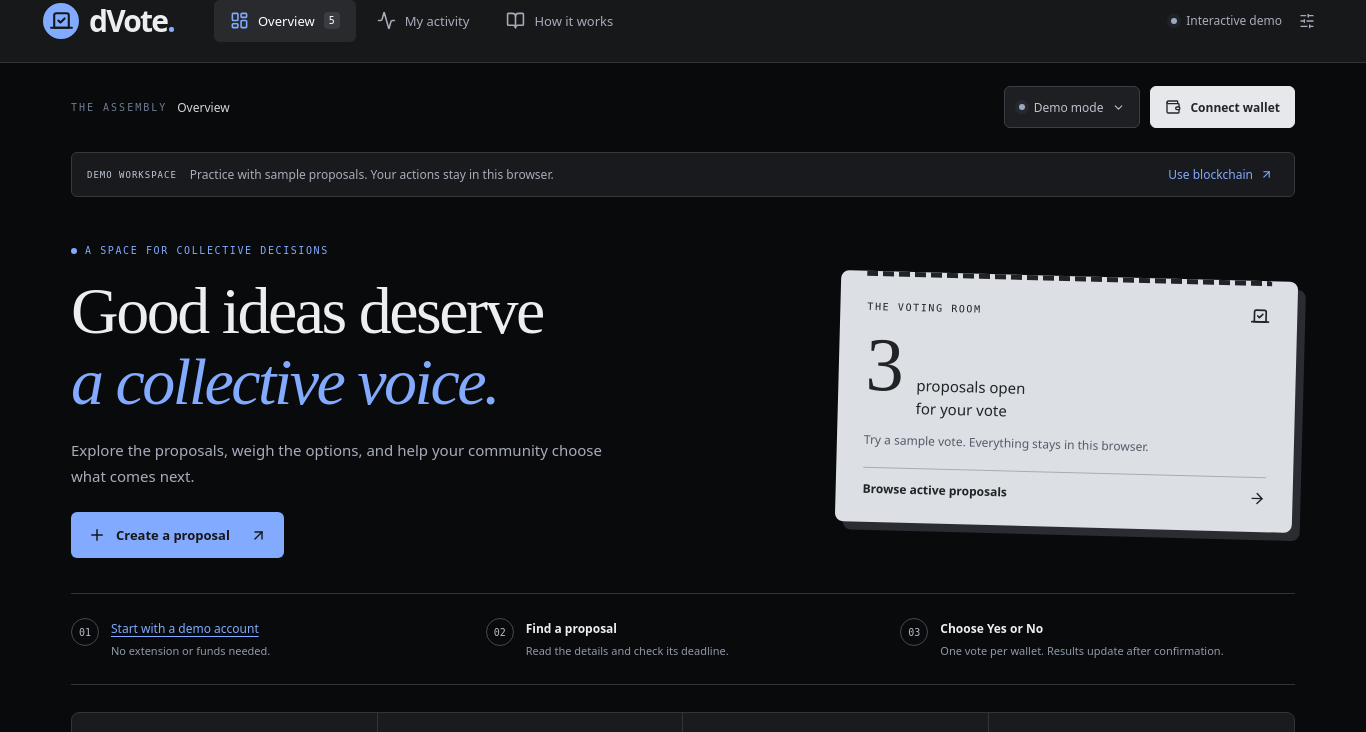
Test: dVote user flows › retains the vote form after a rejected transaction
Click the button "Use blockchain": (1221, 174) [1162,165,1279,184]
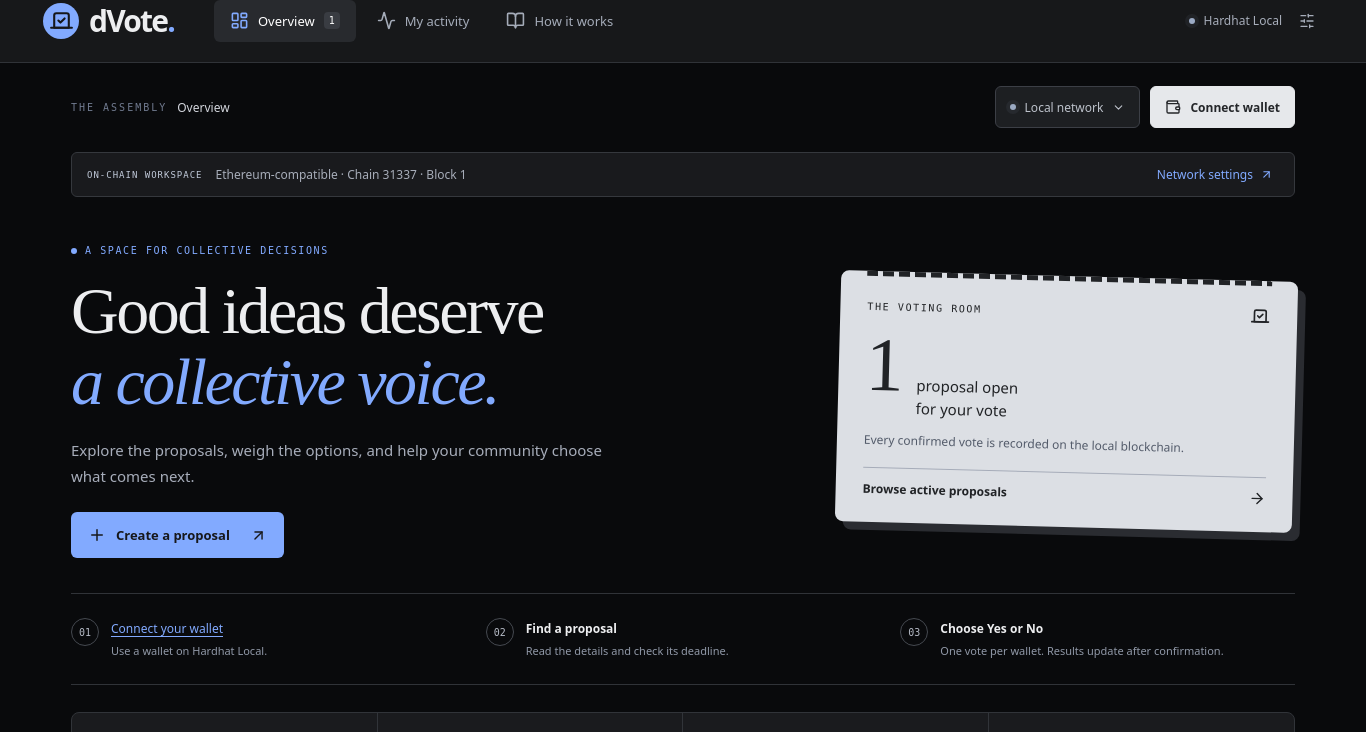
Click the button "Connect wallet": (1223, 107) [1150,86,1295,128]
(page scrolled)
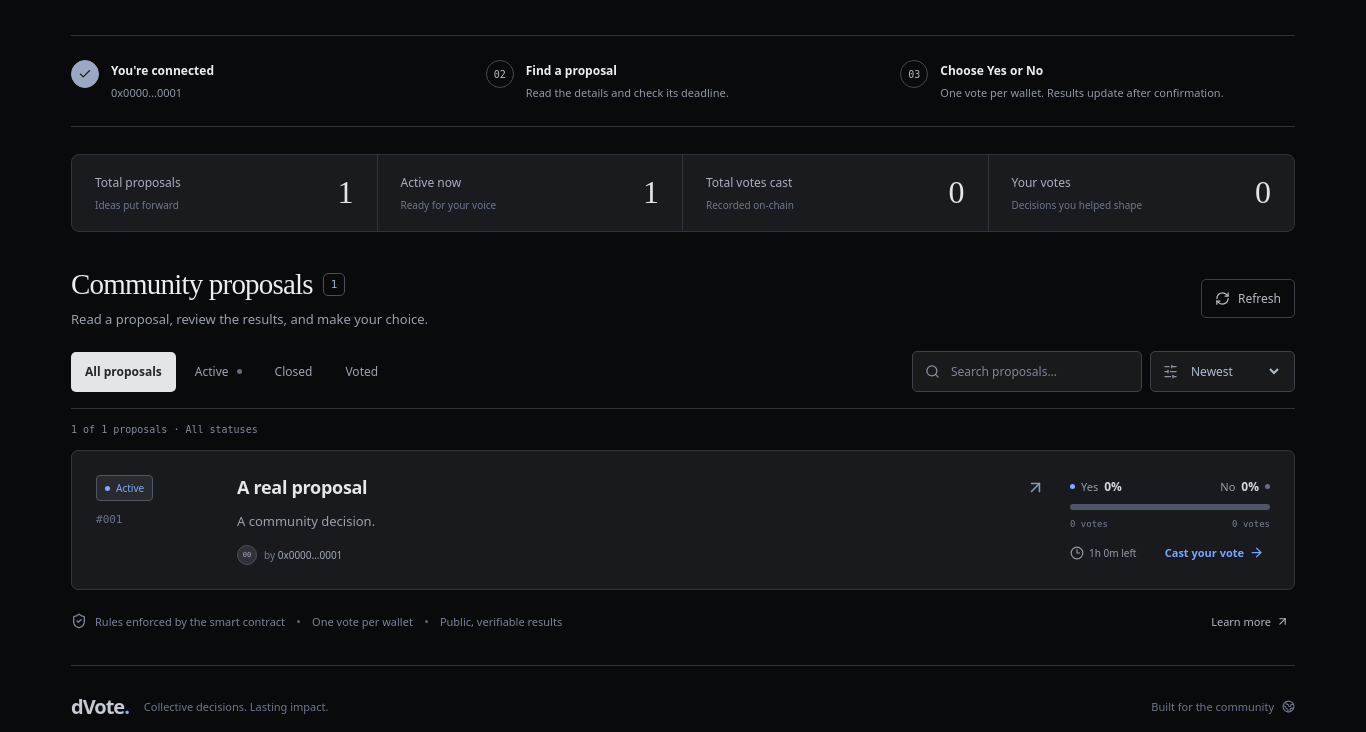
Click the button "A real proposal": (302, 487) [237,475,1045,501]
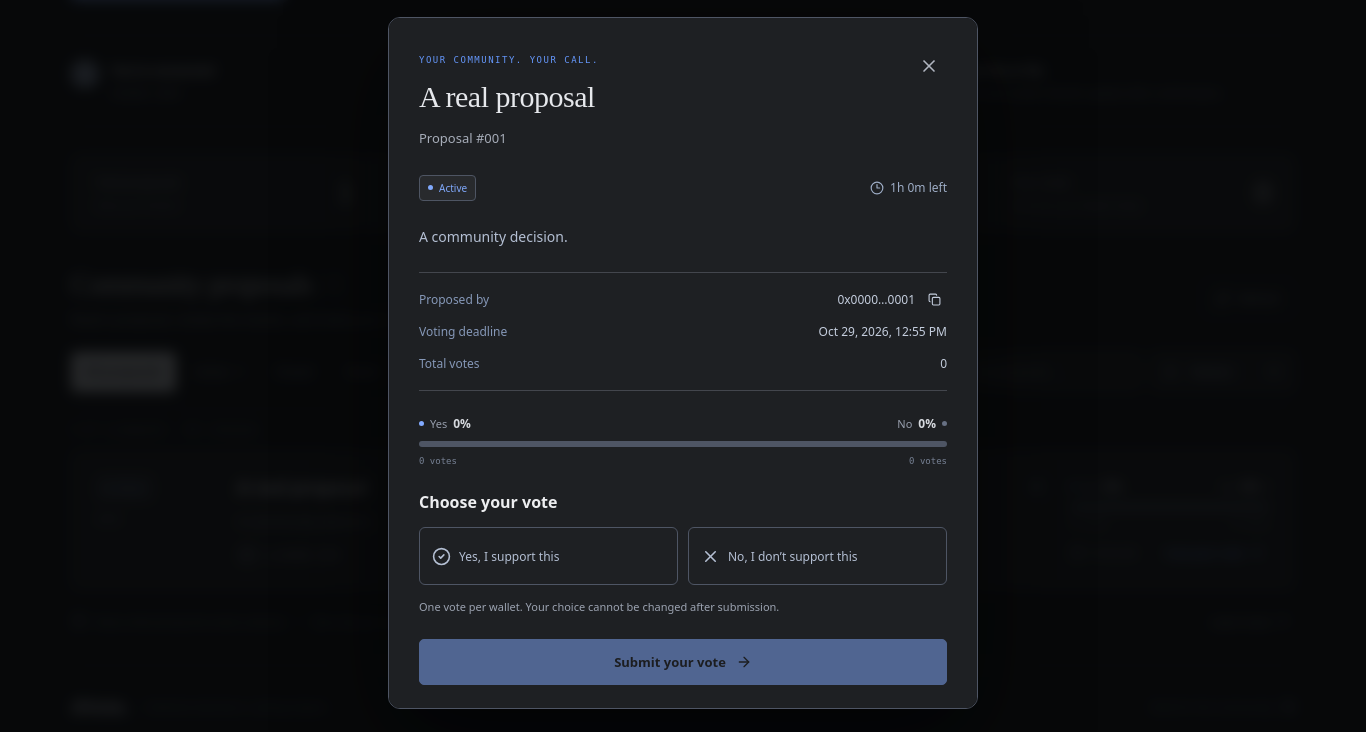
Click the button "No, I don’t support this": (818, 556) [688,527,947,585]
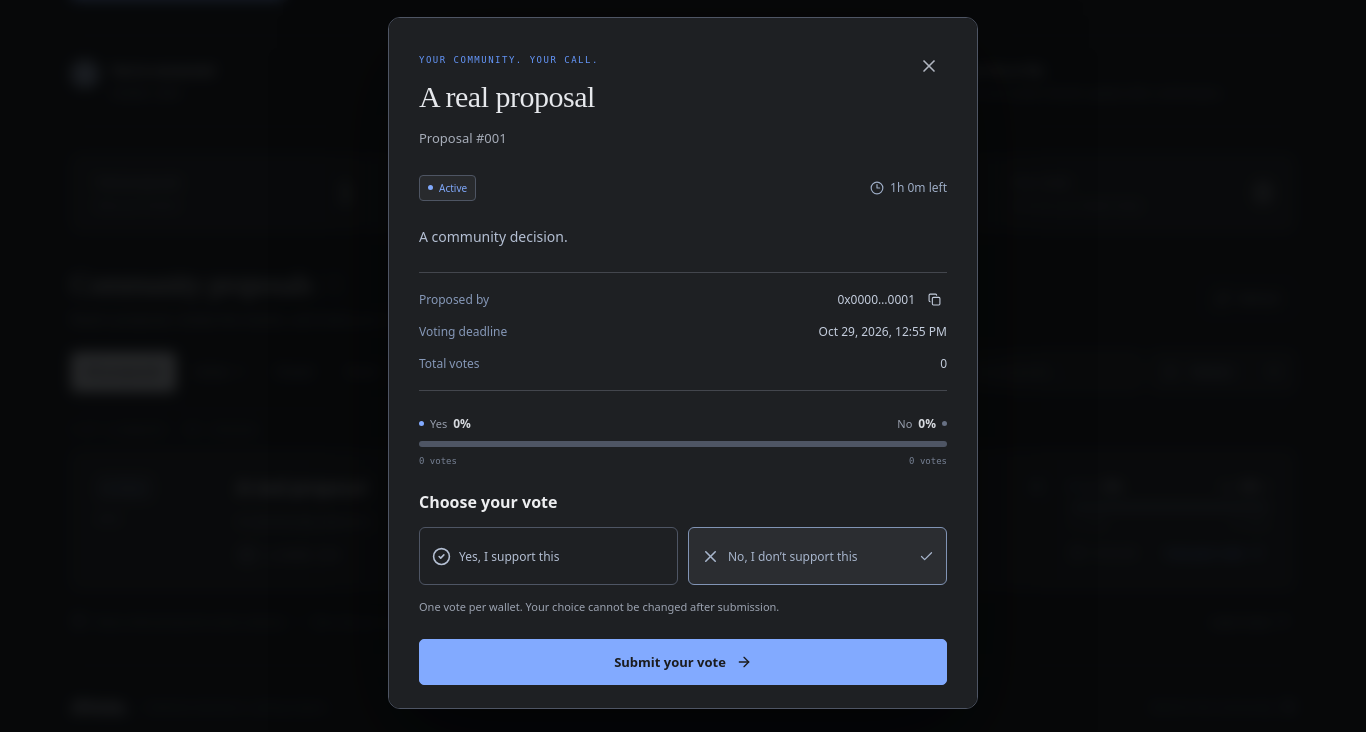
Click the button "Submit your vote": (683, 662) [419,639,947,685]
(page scrolled)
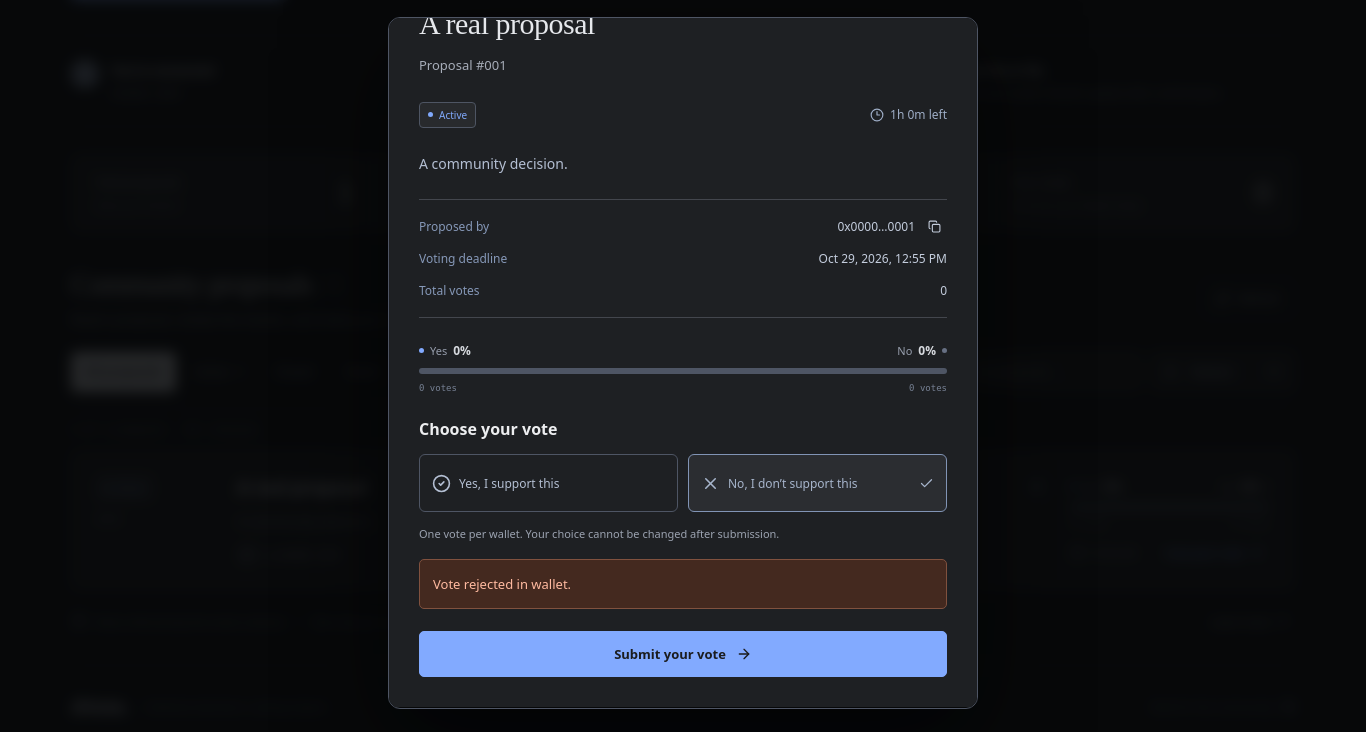
Expected: the button "Submit your vote" is enabled, [419,631,947,677]
Expected: the message reads "Vote rejected in wallet.", [433,575,571,593]
